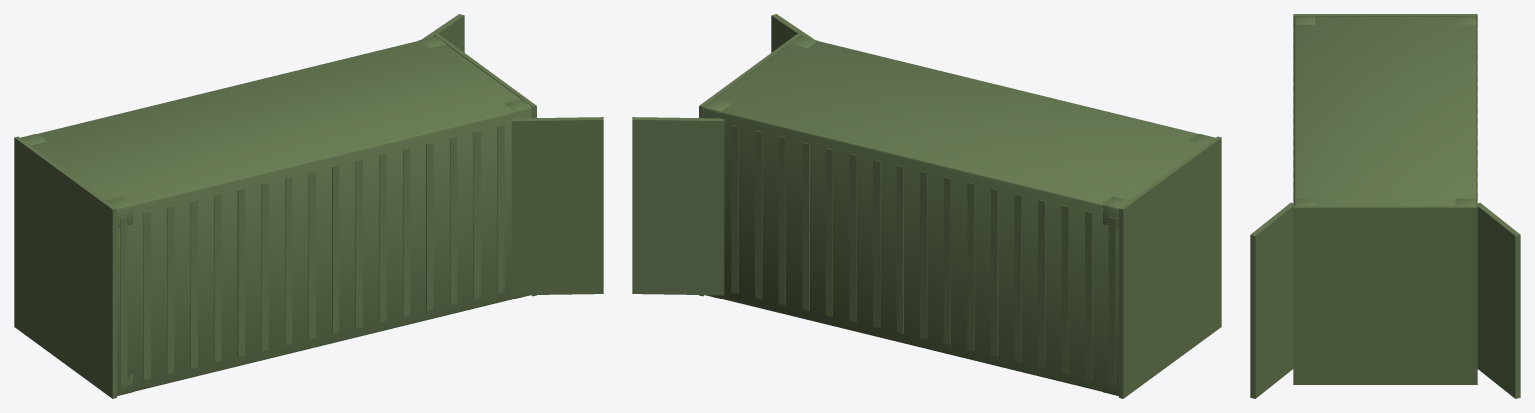
File: gen-shipping-container-open-1.glb
3 views of the same model, side by side, from view 1: azimuth 30°, elevation 25°; view 2: azimuth 150°, elevation 25°; view 3: azimuth 270°, elevation 25° (orthographic). The views are drawn at different scales.
Visible parts, largest first — view 1: gen-shipping-container-open-1_part1; view 2: gen-shipping-container-open-1_part1; view 3: gen-shipping-container-open-1_part1.
Boxes of the visible parts, x1,y1,x2,y2 form: gen-shipping-container-open-1_part1: (14, 14, 603, 398); gen-shipping-container-open-1_part1: (632, 14, 1221, 398); gen-shipping-container-open-1_part1: (1250, 14, 1520, 398).
Bounding box in the file's own units: 6786 × 2610 × 3611.
